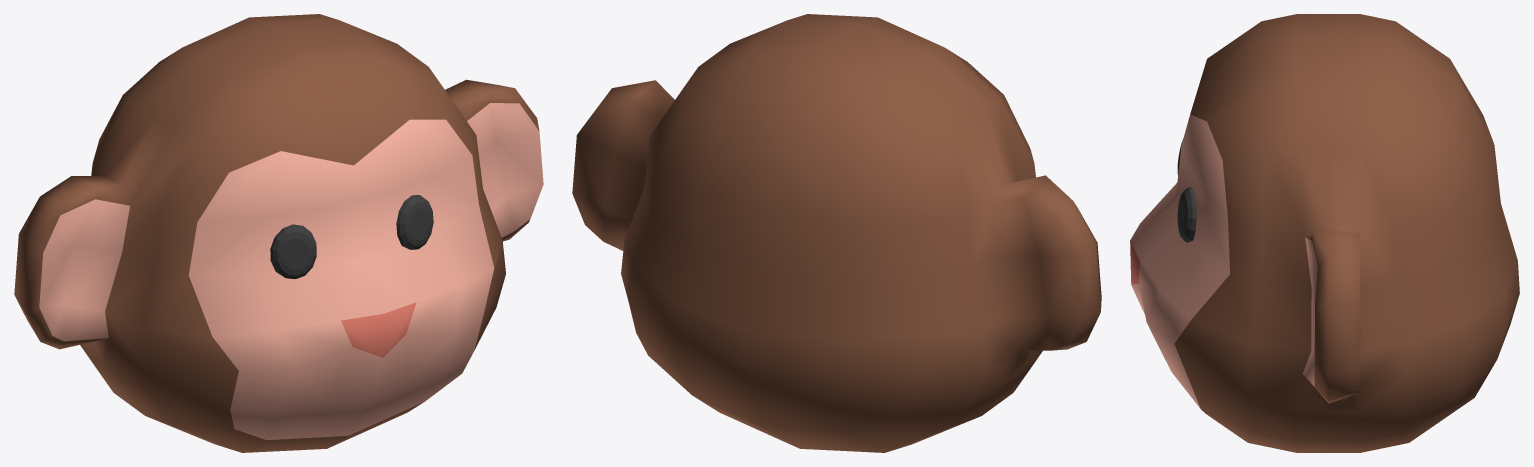
The model's file is MonkeyModel.glb.
3 renders of one model, left to right at view 1: azimuth 30°, elevation 25°; view 2: azimuth 150°, elevation 25°; view 3: azimuth 270°, elevation 25°, orthographic.
Visible parts, largest first — view 1: macaco; view 2: macaco; view 3: macaco.
Part boxes in pixels (left/top/right/bottom): macaco: left=14, top=14, right=543, bottom=452; macaco: left=572, top=14, right=1101, bottom=452; macaco: left=1130, top=14, right=1519, bottom=452.
Bounding box in the file's own units: 1.37 × 0.993 × 0.8963.
